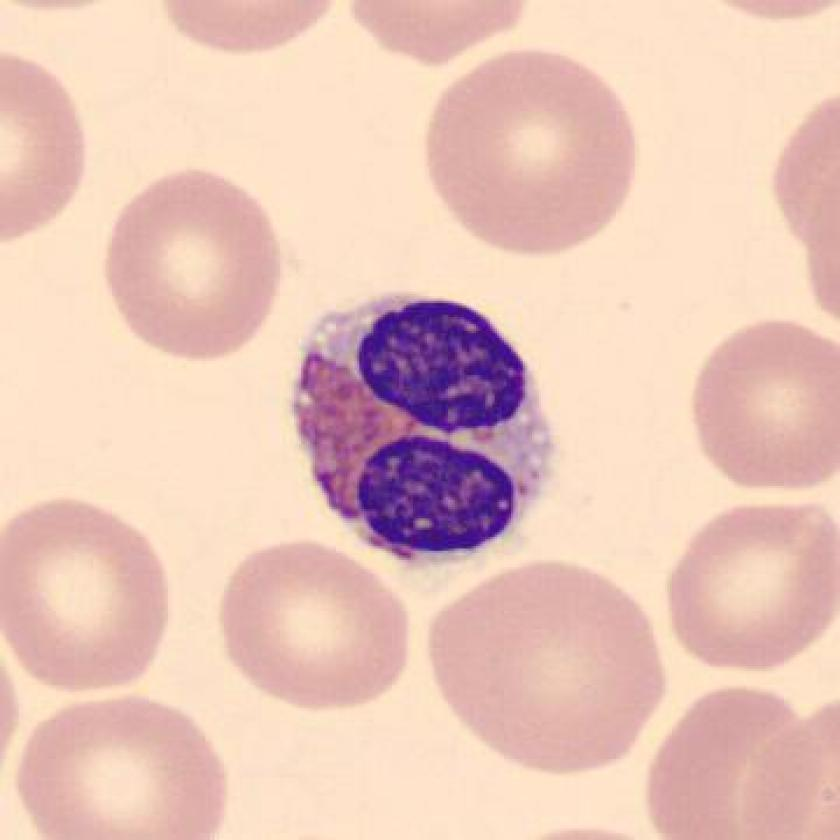eosinophil: (279, 283, 575, 589)
